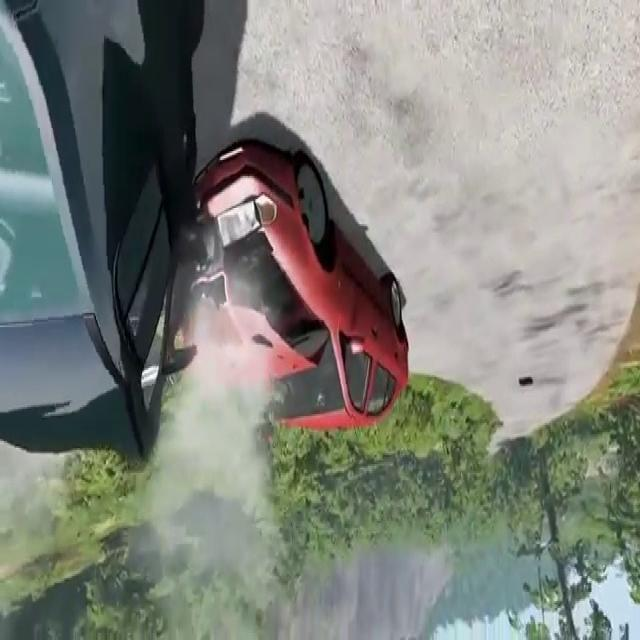moderate: (0, 0, 412, 487)
